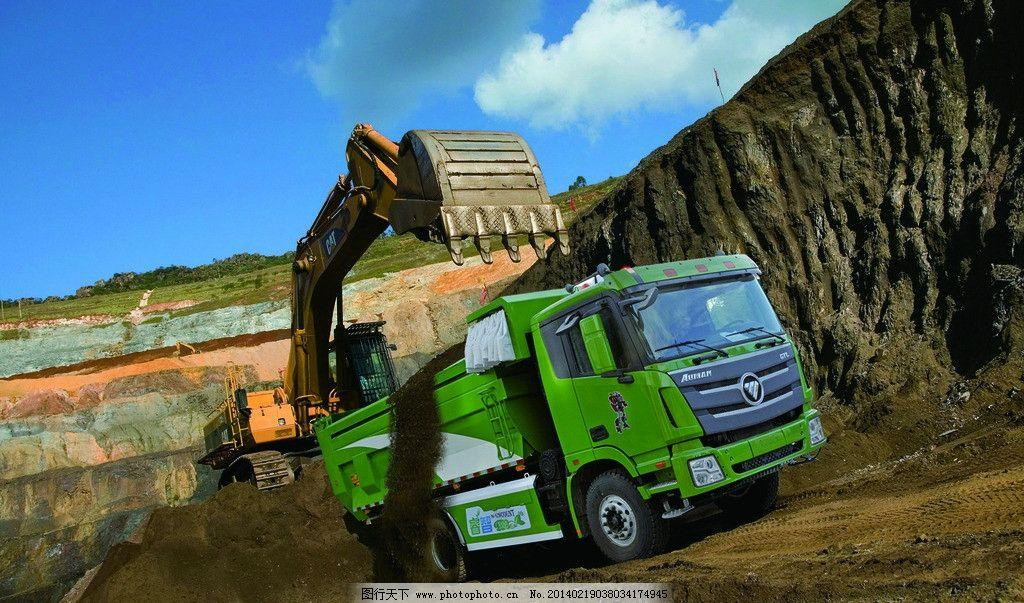truck: (305, 245, 861, 579)
